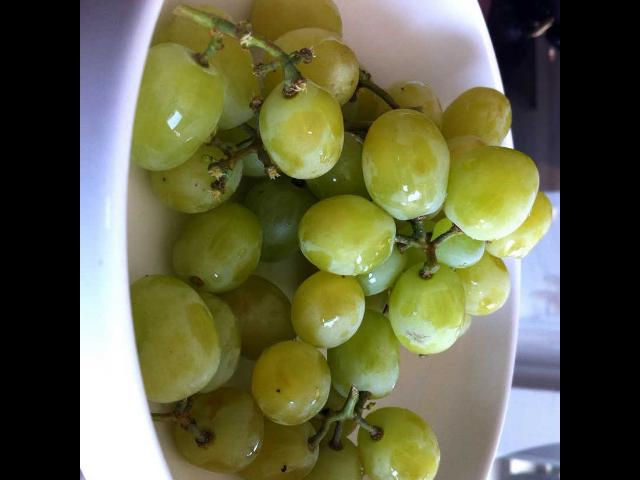Grapes: (134, 0, 552, 480)
